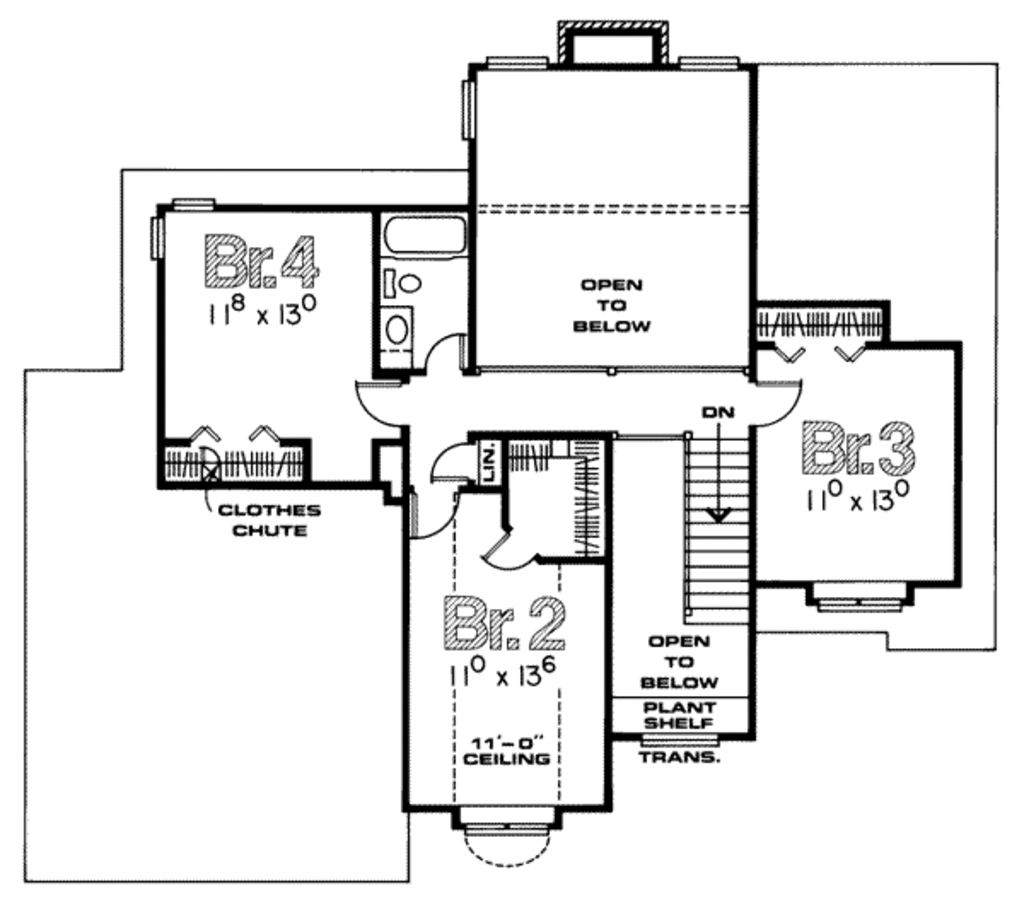door: (349, 366, 414, 427), (754, 373, 811, 438), (482, 528, 536, 580), (411, 332, 472, 377), (410, 493, 464, 541), (428, 445, 481, 481)
large_sink: (379, 256, 432, 307)
small_sink: (375, 300, 418, 362)
stairs: (689, 432, 758, 630)
tub: (374, 213, 467, 257)
window: (811, 585, 908, 617), (457, 73, 485, 141), (667, 49, 738, 75), (485, 52, 557, 77), (642, 730, 715, 753), (147, 216, 179, 267), (464, 823, 543, 839), (170, 195, 217, 214)
